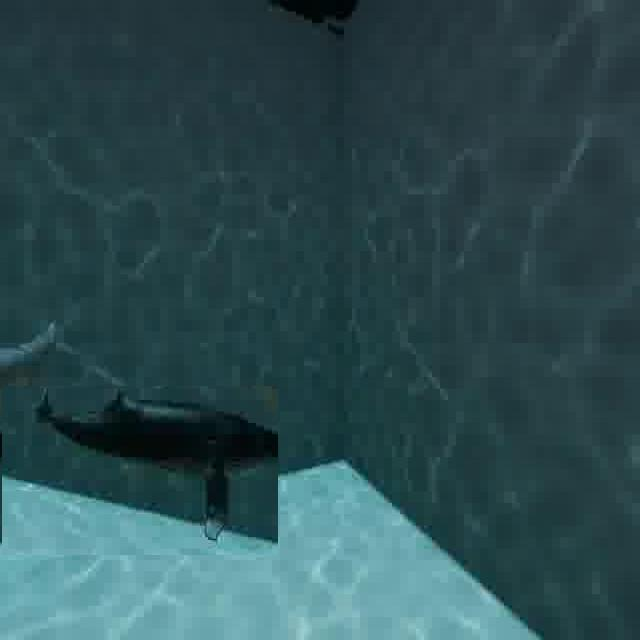Whale: (2, 386, 278, 555)
